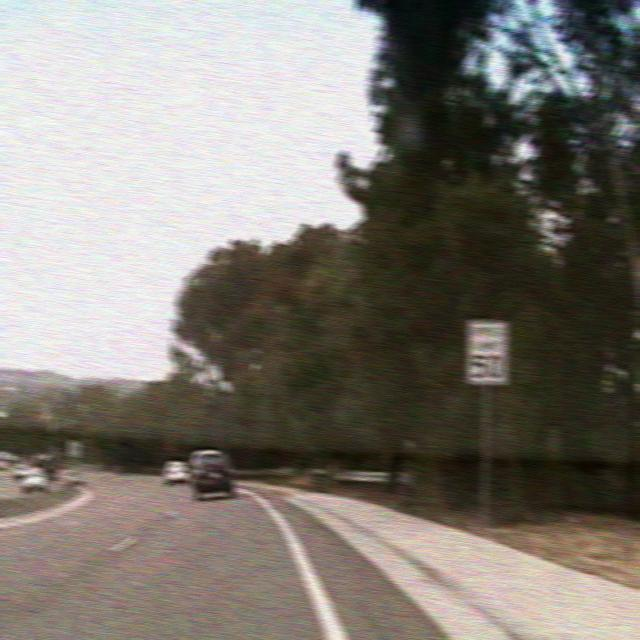speedLimit50: (464, 318, 510, 386)
